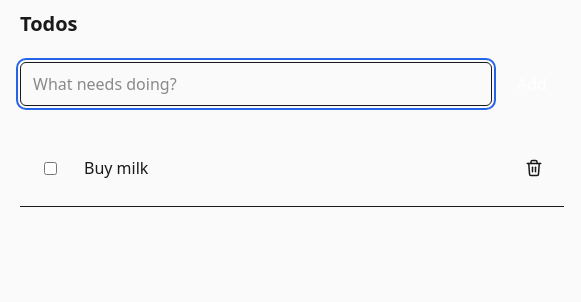
Scenario: <App /> integration — full tree with mocked fetch › toggle failure reverts the row to its prior state (invalidation refetch authoritative) and shows row-anchored InlineError
Expected: the text "Buy milk" is shown, [84, 157, 148, 179]
Click the checkbox named "Mark complete: Buy milk".
click(50, 168)  # box [44, 162, 56, 174]
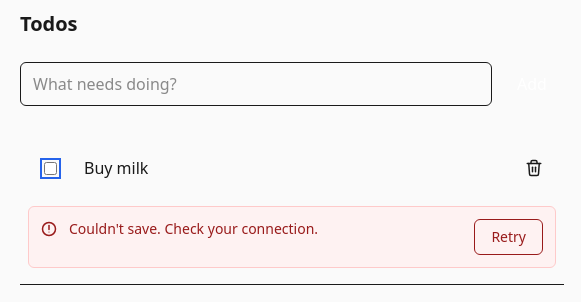
Expected: the message does not show "boom", [28, 206, 556, 268]
Expected: the message shows "Couldn't save. Check your connection.", [69, 219, 318, 238]
Expected: the button "Retry" is shown, [474, 219, 543, 255]
